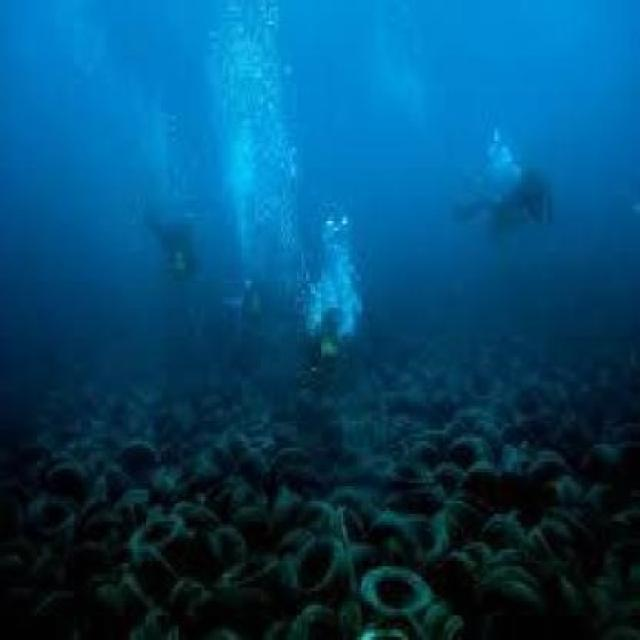tire: (106, 507, 196, 584), (343, 552, 431, 623), (283, 528, 360, 594)
